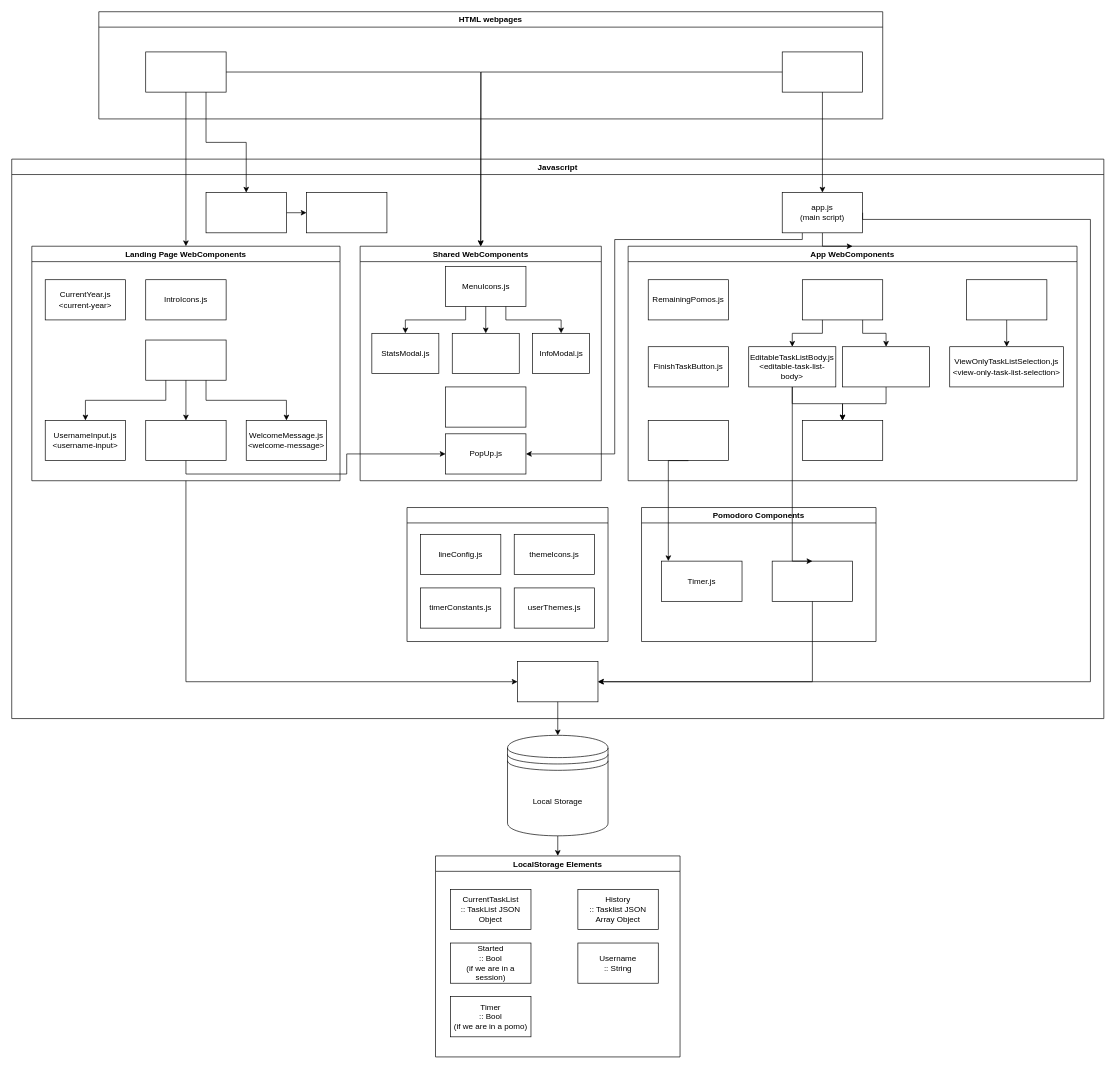
The diagram is 1116 pixels wide and 1069 high, and some of its shapes have lost their labels. Each missing label, with the centre of its shape:
App Page (app.html): point (822, 71)
backend.js: point (557, 681)
Constants: point (507, 574)
EditableTaskList.js <editable-task-list>: point (842, 299)
EditableTaskListInput.js <editable-task-list-input>: point (886, 366)
Landing Page (index.html): point (185, 71)
loadUserTheme.js: point (485, 406)
registerSw.js: point (245, 212)
serviceWorker.js: point (346, 212)
SettingsModal.js: point (485, 353)
StartButton.js <start-button>: point (185, 440)
StartContainer.js <start-container>: point (185, 359)
TaskList.js: point (812, 580)
TimerUI.js <pomo-timer>: point (688, 440)
TomatoSlider.js: point (842, 440)
ViewOnlyTaskList,js <view-only-task-list>: point (1006, 299)
